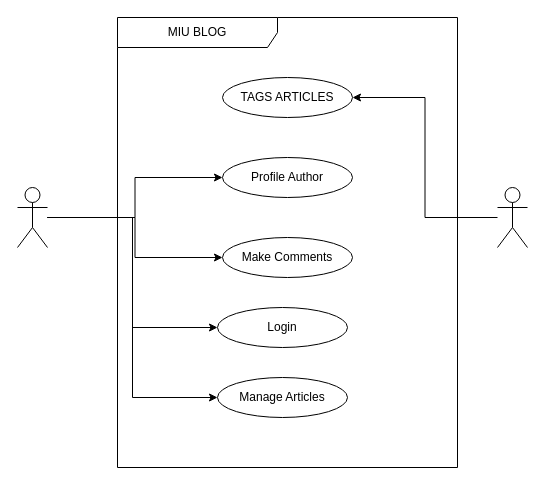
Image size: 550x485. Some labels were removed from this diagram. The shapes that lost their labels are listed below. From the top down, each one's centre as x and y in pixels, then its label:
At (32,217): "User".
At (512,217): "System".
